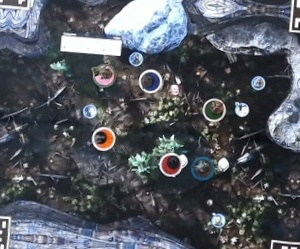blue: (137, 68, 162, 93)
brown_turquoise: (190, 155, 215, 180)
green: (202, 96, 227, 121)
orange: (89, 125, 114, 150)
pink_green: (92, 62, 117, 87)
red: (159, 151, 184, 176)
